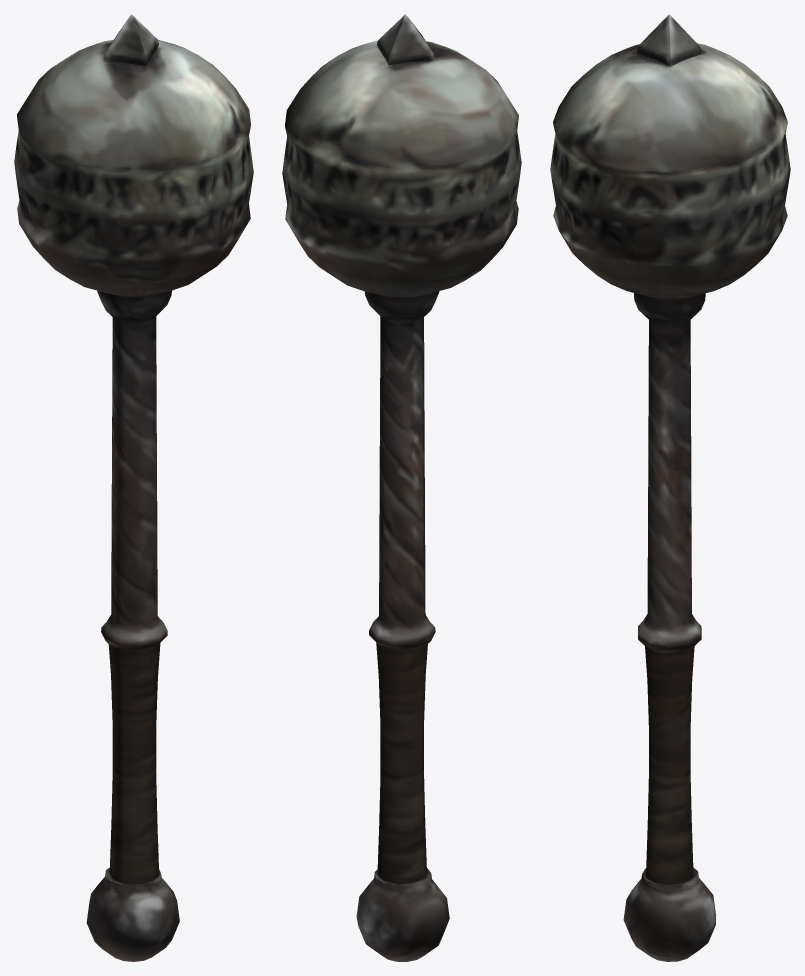
Rendered from weapon-cleric-s-mace.glb.
The picture shows the model from 3 angles, left to right: view 1: azimuth 30°, elevation 25°; view 2: azimuth 150°, elevation 25°; view 3: azimuth 270°, elevation 25°; orthographic projection.
Visible parts, largest first — view 1: maceB_MDL_q; view 2: maceB_MDL_q; view 3: maceB_MDL_q.
Part boxes in pixels (x1=…): maceB_MDL_q: x1=14, y1=14, x2=253, y2=961; maceB_MDL_q: x1=282, y1=14, x2=521, y2=961; maceB_MDL_q: x1=550, y1=14, x2=790, y2=961.
Size of the model in its own units: 0.323 by 1.4 by 0.323.
Materials: 1 (1 with a texture image).
